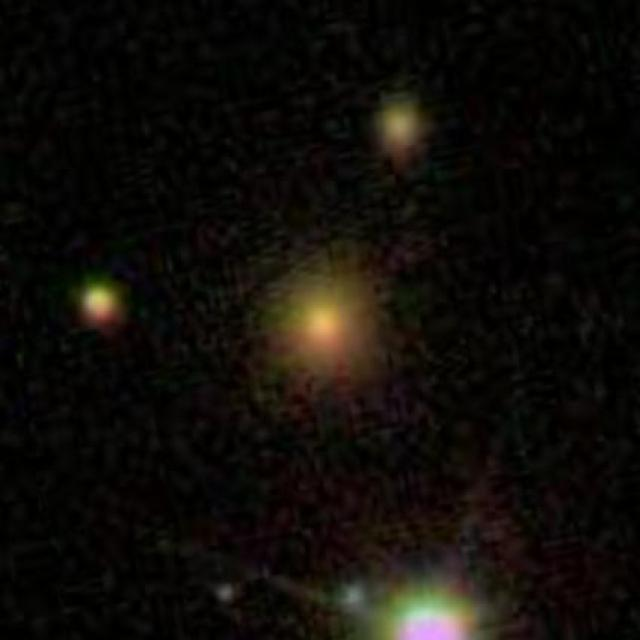galaxy: (220, 227, 445, 433), (367, 85, 435, 179), (73, 276, 135, 341), (207, 581, 239, 608)
star: (181, 437, 564, 640)
